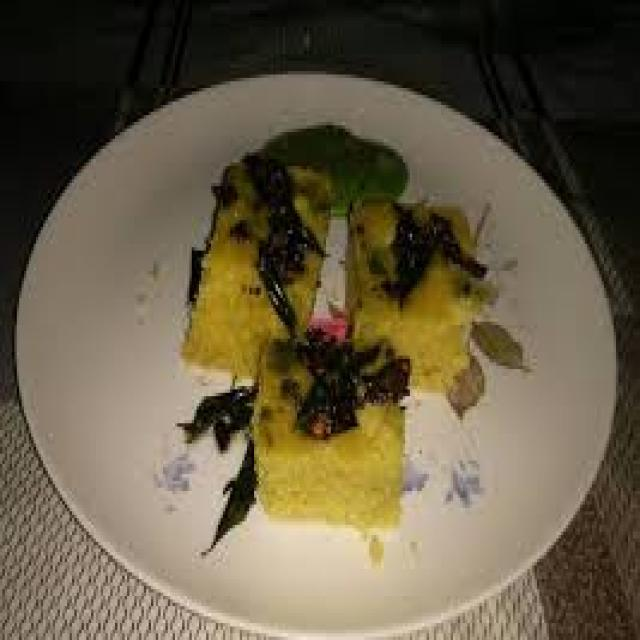DHOKLA: (180, 169, 331, 387), (259, 325, 400, 526), (342, 196, 475, 390)
